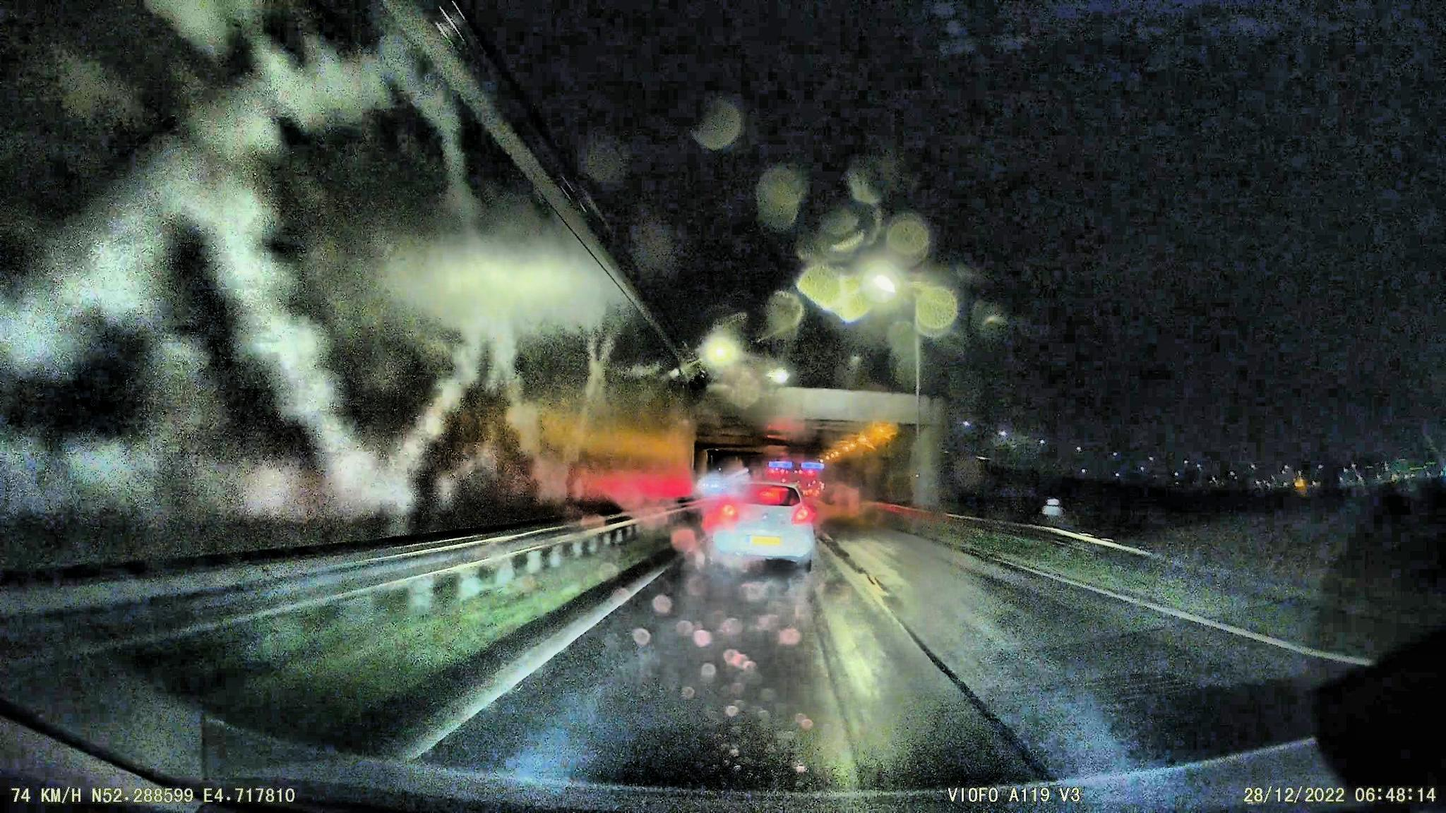Roads: (423, 528, 1360, 792)
